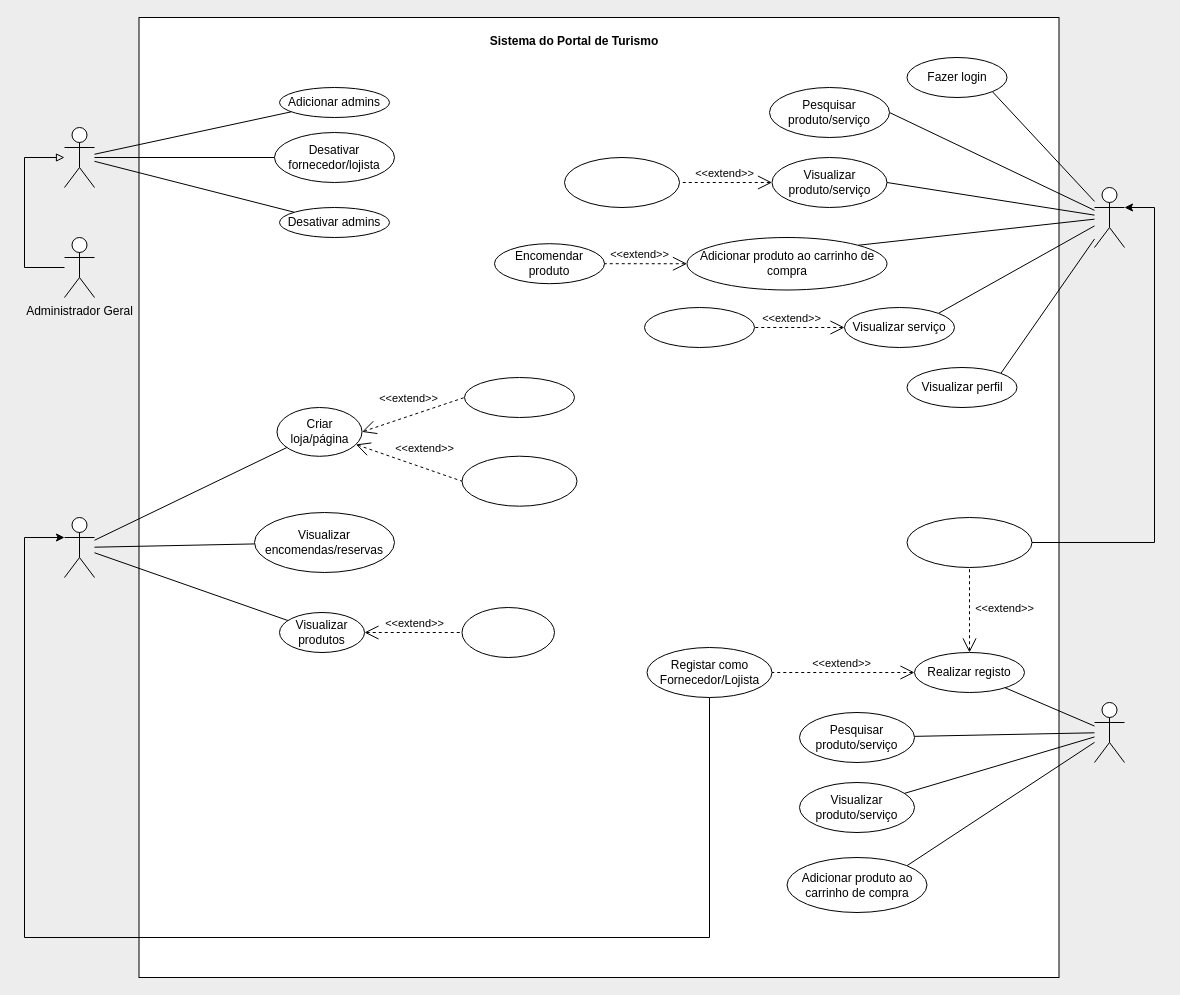
Image size: 1180x995. Some labels were removed from this diagram. The box of each missing label's shape, as (x1, y1, x2, y2) in pixels:
Adicionar produto/serviço: (461, 455, 577, 506)
Administrador: (64, 126, 94, 188)
Anónimo: (1094, 702, 1124, 762)
Avaliar produto/serviço: (564, 156, 680, 208)
Cliente: (1094, 186, 1124, 248)
Editar loja/página: (464, 376, 574, 418)
Fornecedor/Lojista: (64, 516, 94, 578)
Registar como Cliente: (906, 516, 1032, 568)
Reservar serviço: (644, 306, 754, 348)
Visualizar avaliações: (461, 606, 554, 658)
